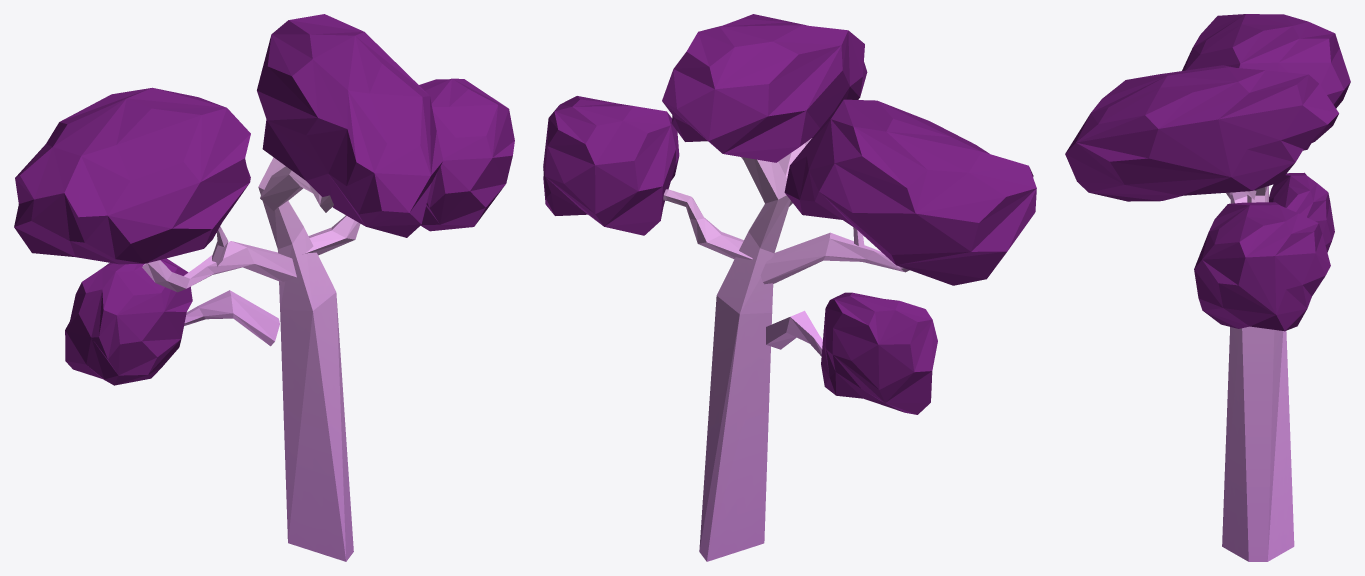
The model's file is Tree_5.FBX.
3 renders of one model, left to right at view 1: azimuth 30°, elevation 25°; view 2: azimuth 150°, elevation 25°; view 3: azimuth 270°, elevation 25°, orthographic. The views are drawn at different scales.
Visible parts, largest first — view 1: Cylinder026; view 2: Cylinder026; view 3: Cylinder026.
Boxes of the visible parts, x1=… form: Cylinder026: x1=14, y1=14, x2=514, y2=561; Cylinder026: x1=543, y1=14, x2=1036, y2=561; Cylinder026: x1=1065, y1=14, x2=1350, y2=561.
Bounding box in the file's own units: 4771 × 4934 × 2673.
1 material, 1 textured.
